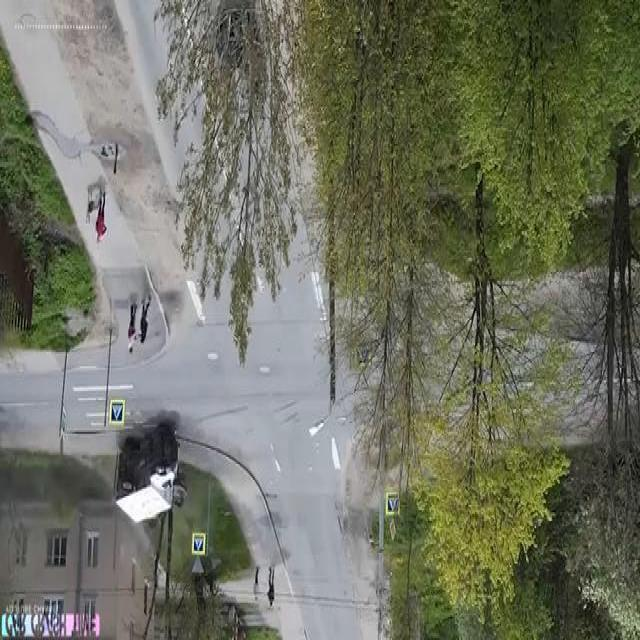person: (101, 396, 197, 544)
